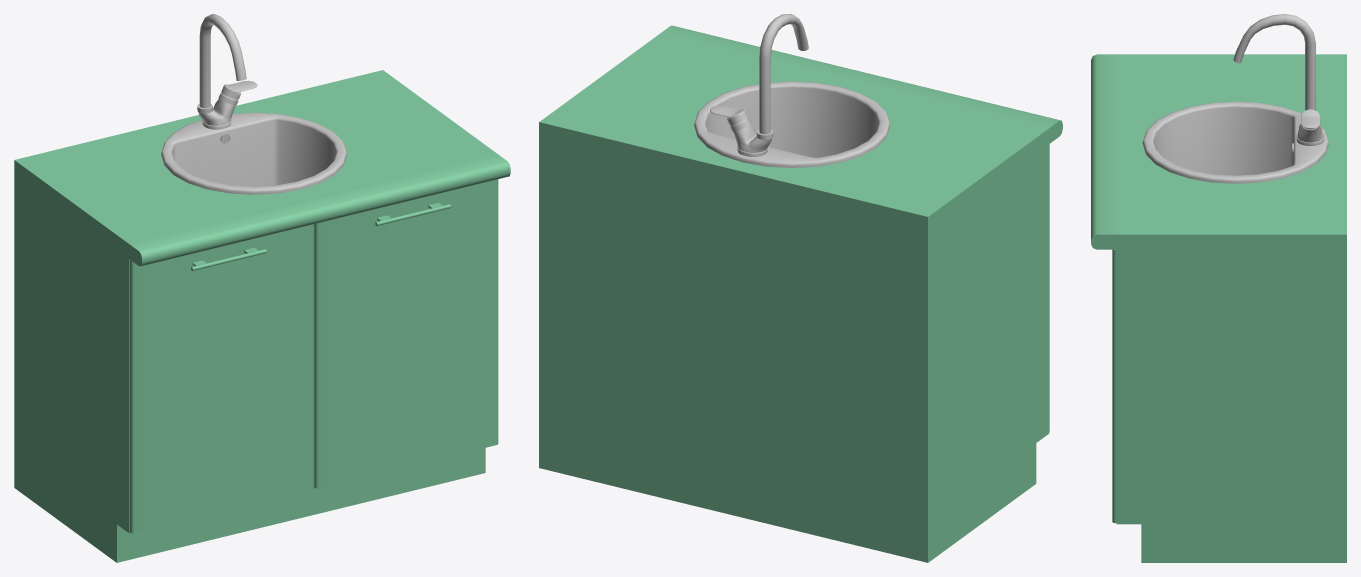
Rendered from hospital_kitchen_module_1.fbx.
3 views of the same model, side by side, from view 1: azimuth 30°, elevation 25°; view 2: azimuth 150°, elevation 25°; view 3: azimuth 270°, elevation 25° (orthographic). The views are drawn at different scales.
Parts seen in each view (by area): view 1: hospital_kitchen_module_1, hospital_kitchen_Mixer; view 2: hospital_kitchen_module_1, hospital_kitchen_Mixer; view 3: hospital_kitchen_module_1, hospital_kitchen_Mixer, hospital_kitchen_Mixer_Lever.
Part boxes in pixels (x1,y1,x2,y2): hospital_kitchen_module_1: [14, 70, 510, 562]; hospital_kitchen_Mixer: [197, 14, 246, 129]; hospital_kitchen_module_1: [539, 25, 1062, 562]; hospital_kitchen_Mixer: [730, 14, 808, 156]; hospital_kitchen_module_1: [1091, 54, 1346, 562]; hospital_kitchen_Mixer: [1233, 14, 1324, 145]; hospital_kitchen_Mixer_Lever: [1301, 109, 1320, 128].
Size of the model in its own units: 100 by 117 by 60.
